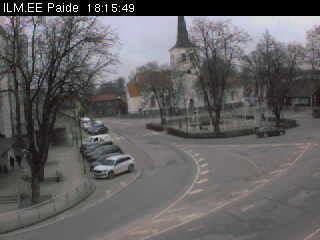car: (93, 153, 135, 180), (88, 144, 120, 163), (91, 153, 123, 171), (85, 141, 113, 159), (81, 135, 111, 151), (256, 125, 286, 137), (84, 119, 103, 130), (89, 127, 109, 135)
person: (15, 153, 24, 171), (9, 156, 17, 174)
